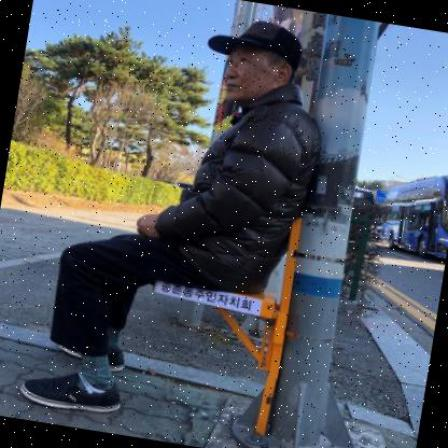silver: (19, 0, 342, 444)
